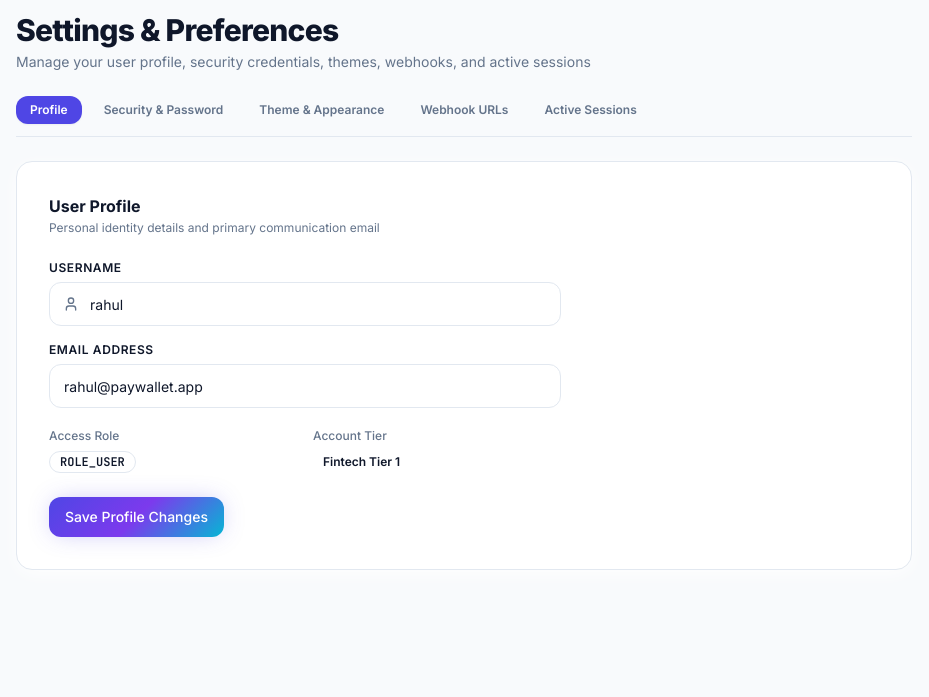
Test: SettingsPage Component › navigates to Security & Password tab and renders password strength meter
Click the button "Security & Password".
click(164, 110)  # box left=90, top=96, right=237, bottom=124
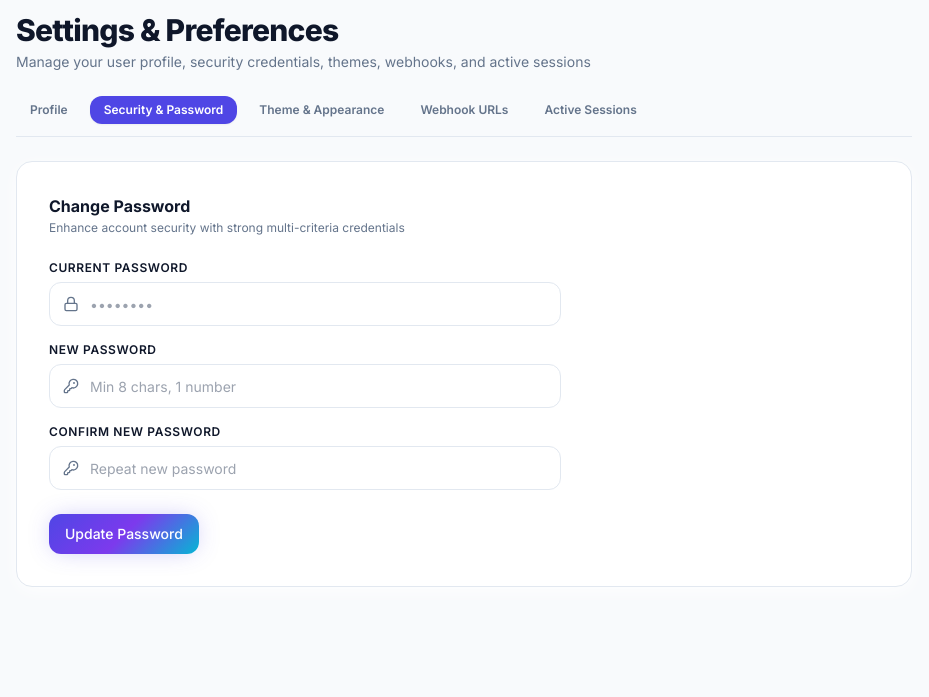
Expected: the heading "Change Password" is shown, left=49, top=196, right=190, bottom=216
Expected: the password field labelled "Current Password" is shown, left=49, top=282, right=561, bottom=326
Type "Secret@123" into the password field labelled "New Password".
click(305, 386); type("Secret@123")  # box left=49, top=364, right=561, bottom=408
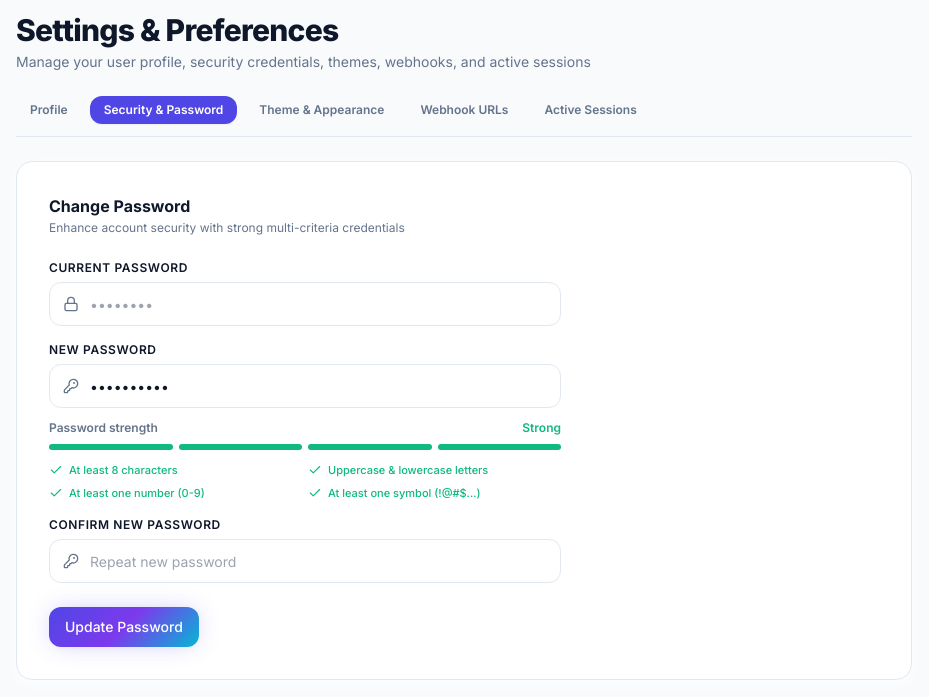
Expected: the text "Password strength" is shown, left=49, top=420, right=158, bottom=436
Expected: the text "Strong" is shown, left=522, top=420, right=561, bottom=436
